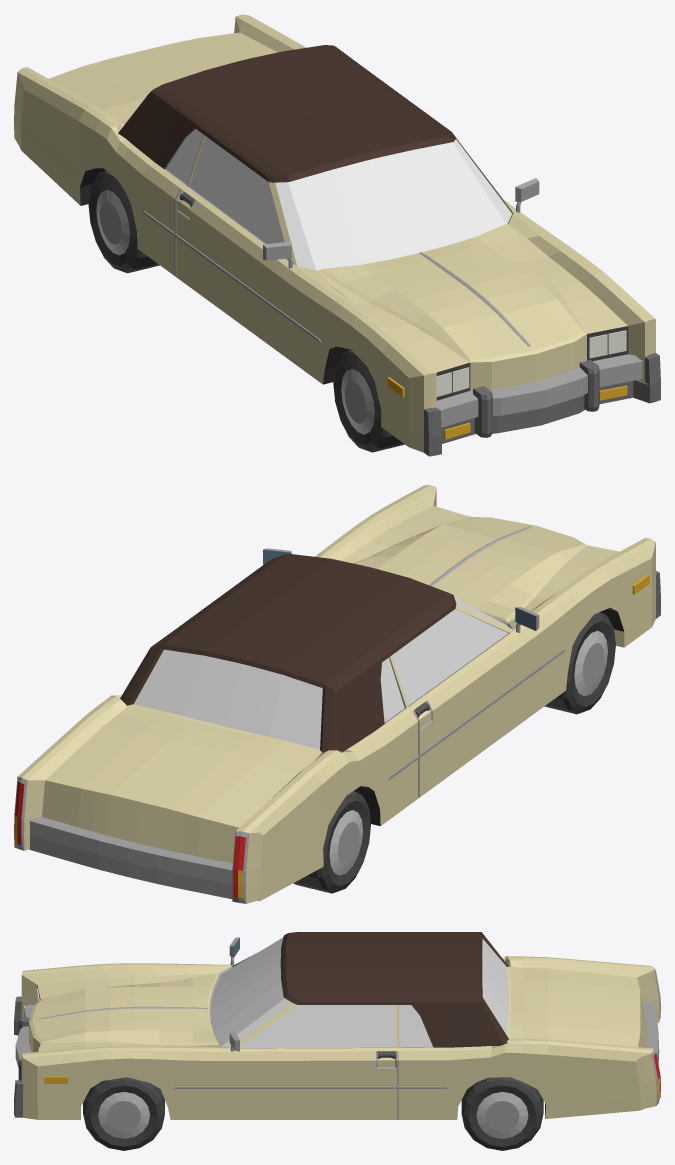
The model's file is Car_Classy_03.fbx.
The picture shows the model from 3 angles, top to bottom: view 1: azimuth 30°, elevation 25°; view 2: azimuth 150°, elevation 25°; view 3: azimuth 270°, elevation 25°; orthographic projection. The views are drawn at different scales.
Parts seen in each view (by area): view 1: Car_Classy_03, Wheel_Classic_03.R.R, Wheel_Classic_03.F.R; view 2: Car_Classy_03, Wheel_Classic_03.R.R, Wheel_Classic_03.F.R; view 3: Car_Classy_03, Wheel_Classic_03.R.L., Wheel_Classic_03.F.L.
Boxes of the visible parts, x1,y1,x2,y2 form: Car_Classy_03: (14, 14, 660, 456); Wheel_Classic_03.R.R: (88, 170, 159, 273); Wheel_Classic_03.F.R: (333, 349, 404, 452); Car_Classy_03: (14, 485, 660, 903); Wheel_Classic_03.R.R: (293, 791, 370, 893); Wheel_Classic_03.F.R: (544, 612, 615, 714); Car_Classy_03: (14, 932, 660, 1119); Wheel_Classic_03.R.L.: (461, 1077, 543, 1150); Wheel_Classic_03.F.L: (83, 1077, 164, 1150).
Bounding box in the file's own units: 289 × 195 × 767.
